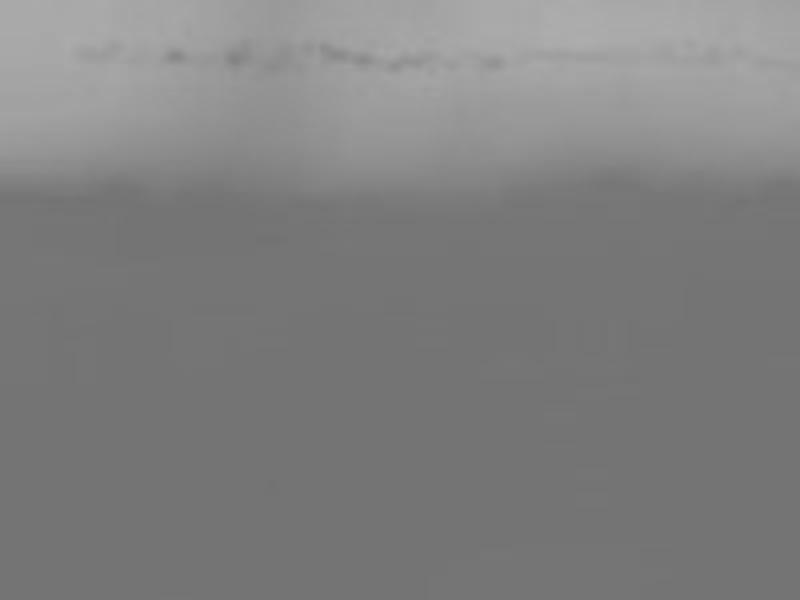defect: (222, 45, 252, 71), (315, 38, 351, 59), (401, 48, 430, 70), (160, 45, 190, 66), (73, 39, 98, 64), (101, 35, 124, 56), (477, 54, 501, 72), (357, 55, 379, 70), (385, 56, 401, 73)
